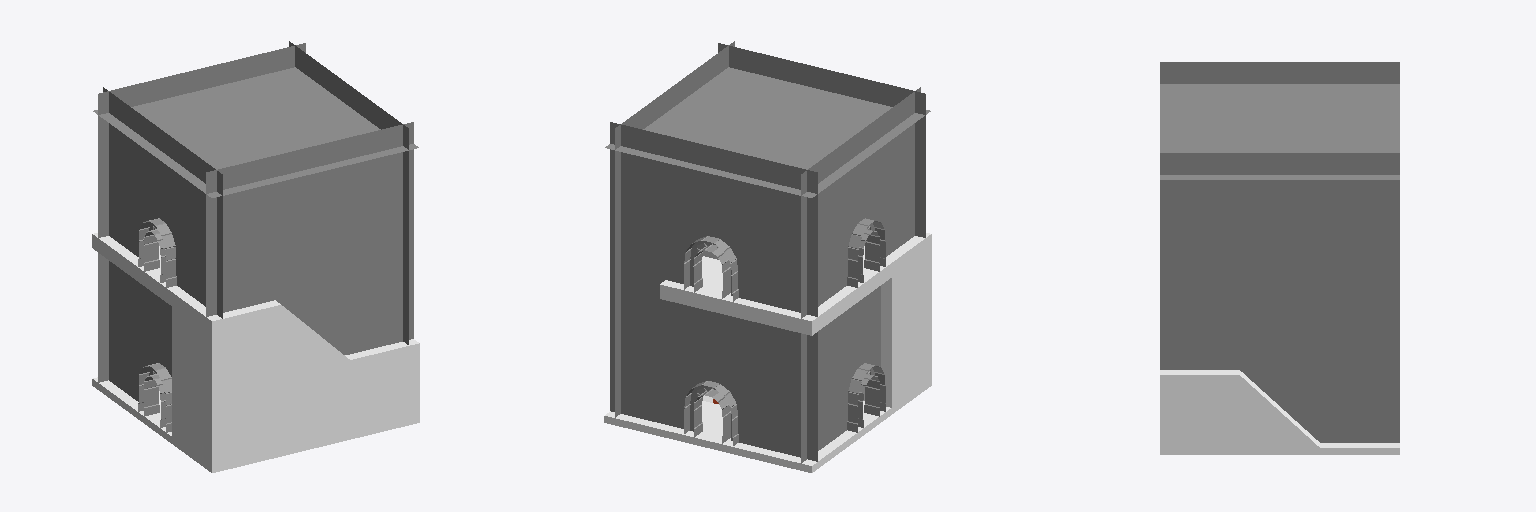
The model's file is cornerDoubleStairsR.obj.
3 renders of one model, left to right at view 1: azimuth 30°, elevation 25°; view 2: azimuth 150°, elevation 25°; view 3: azimuth 270°, elevation 25°, orthographic.
Visible parts, largest first — view 1: struct_wall_main_half_8, block_default_0, struct_ceiling_10, block_default_1, struct_wall_main_half_3, struct_wall_main_half_1, struct_door_0, block_default_7, slope_default_3, struct_door_3, struct_wall_main_half_0, struct_wall_main_half_2 (+4 smaller); view 2: struct_wall_main_half_8, struct_ceiling_10, struct_wall_main_half_5, struct_wall_main_half_3, struct_door_0, block_default_0, struct_wall_main_half_2, struct_wall_main_half_1, block_default_7, struct_wall_main_half_7, struct_wall_main_half_6, block_default_4 (+4 smaller); view 3: struct_wall_main_half_8, struct_ceiling_10, block_default_1, struct_wall_main_half_3, slope_default_4, block_default_7.
Part boxes in pixels (bbox=[...]): struct_wall_main_half_8: bbox=[98, 41, 413, 354]; block_default_0: bbox=[172, 290, 280, 465]; struct_ceiling_10: bbox=[93, 67, 418, 197]; block_default_1: bbox=[281, 339, 419, 448]; struct_wall_main_half_3: bbox=[98, 87, 222, 382]; struct_wall_main_half_1: bbox=[109, 218, 222, 353]; struct_door_0: bbox=[138, 189, 182, 289]; block_default_7: bbox=[92, 377, 419, 472]; slope_default_3: bbox=[281, 305, 349, 376]; struct_door_3: bbox=[138, 333, 171, 432]; struct_wall_main_half_0: bbox=[109, 309, 142, 401]; struct_wall_main_half_2: bbox=[109, 164, 142, 256]; struct_wall_main_half_8: bbox=[610, 41, 925, 417]; struct_ceiling_10: bbox=[605, 67, 930, 197]; struct_wall_main_half_5: bbox=[610, 267, 817, 388]; struct_wall_main_half_3: bbox=[749, 87, 920, 461]; struct_door_0: bbox=[680, 189, 885, 445]; block_default_0: bbox=[863, 233, 931, 407]; struct_wall_main_half_2: bbox=[610, 218, 840, 427]; struct_wall_main_half_1: bbox=[801, 164, 914, 390]; block_default_7: bbox=[604, 379, 931, 472]; struct_wall_main_half_7: bbox=[610, 194, 679, 282]; struct_wall_main_half_6: bbox=[749, 228, 817, 316]; block_default_4: bbox=[660, 256, 851, 335]; struct_wall_main_half_8: bbox=[1160, 153, 1399, 442]; struct_ceiling_10: bbox=[1160, 84, 1399, 179]; block_default_1: bbox=[1160, 370, 1239, 447]; struct_wall_main_half_3: bbox=[1160, 62, 1399, 83]; slope_default_4: bbox=[1240, 371, 1319, 447]; block_default_7: bbox=[1160, 443, 1399, 454].
Bounding box in the file's own units: 3 × 4.1 × 3.